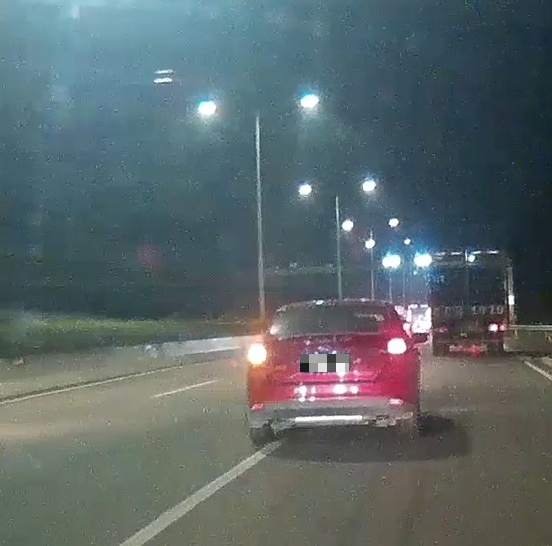L_light: (246, 343, 268, 364)
R_light: (387, 335, 408, 355)
T_light: (313, 306, 338, 311)
night-left: (245, 299, 415, 445)
plate_1: (300, 354, 349, 372)
